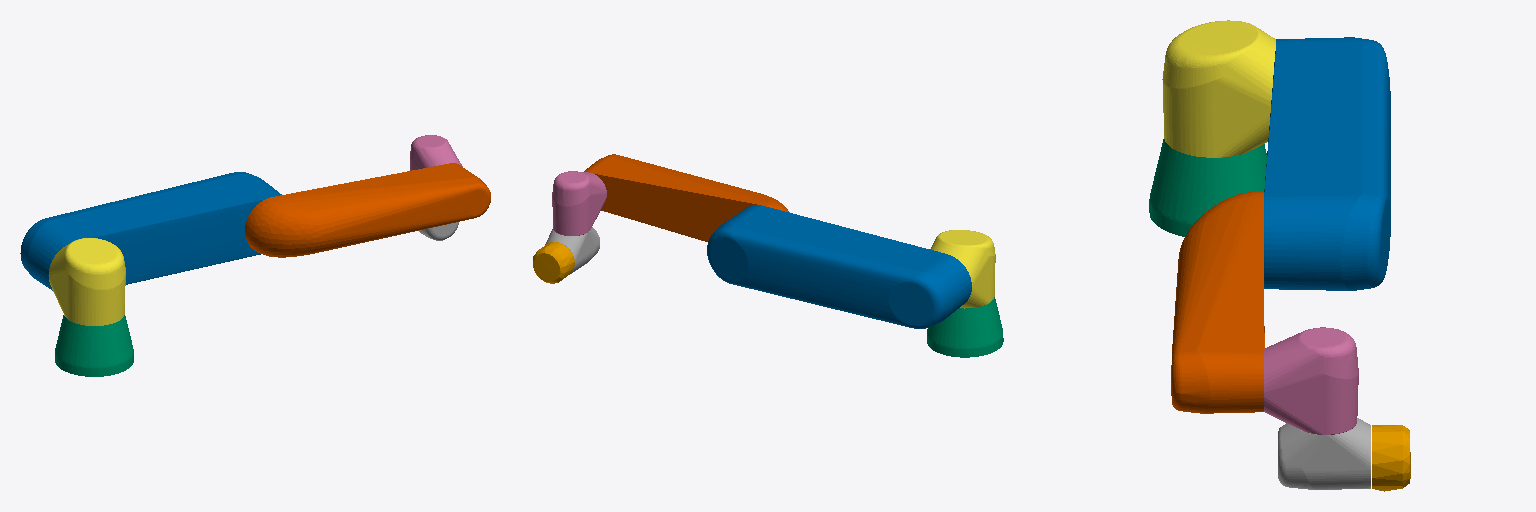
robot.urdf — ur5e:
<?xml version="1.0" ?>
<!-- =================================================================================== -->
<!-- |    This document was autogenerated by xacro from urdf/ur.urdf.xacro             | -->
<!-- |    EDITING THIS FILE BY HAND IS NOT RECOMMENDED                                 | -->
<!-- =================================================================================== -->
<robot name="ur5e">
  <!--
    Base UR robot series xacro macro.

    NOTE this is NOT a URDF. It cannot directly be loaded by consumers
    expecting a flattened '.urdf' file. See the top-level '.xacro' for that
    (but note that .xacro must still be processed by the xacro command).

    This file models the base kinematic chain of a UR robot, which then gets
    parameterised by various configuration files to convert it into a UR3(e),
    UR5(e), UR10(e) or UR16e, etc.

    NOTE the default kinematic parameters (i.e., link lengths, frame locations,
    offsets, etc) do not correspond to any particular robot. They are defaults
    only. There WILL be non-zero offsets between the Forward Kinematics results
    in TF (i.e., robot_state_publisher) and the values reported by the Teach
    Pendant.

    For accurate (and robot-specific) transforms, the 'kinematics_parameters_file'
    parameter MUST point to a .yaml file containing the appropriate values for
    the targeted robot.

    If using the UniversalRobots/Universal_Robots_ROS_Driver, follow the steps
    described in the readme of that repository to extract the kinematic
    calibration from the controller and generate the required .yaml file.

    Main author of the migration to yaml configs [author].

    Contributors to previous versions (in no particular order)

     - [author]
     - [author]
     - [author]
     - [author]
     - [author]
     - [author]
     - [author]
     - [author]
     - [author]
     - [author]
     - [author]
     - [author]
     - [author]
     - [author]
     - [author]
     - [author]
     - [author]
     - [author]
     - [author]
  -->
  <!-- create link fixed to the "world" -->
  <link name="world"/>
  <!-- links -  main serial chain -->
  <!-- base_link serves as the root of the robot's kinematic tree. It follows REP-103
        conventions (i.e., X+ forward, Y+ left, Z+ up).
        Since some kinematic solvers forbid having inertia values attached to a root link, we've
        added the base_link_inertia link that carries the visual, collision and inertia
        information.
    -->
  <link name="base_link"/>
  <link name="base_link_inertia">
    <visual>
      <origin rpy="0 0 3.141592653589793" xyz="0 0 0"/>
      <geometry>
        <mesh filename="package://ur5e_description/ur5e/visual/base.obj"/>
      </geometry>
    </visual>
    <collision>
      <origin rpy="0 0 3.141592653589793" xyz="0 0 0"/>
      <geometry>
        <mesh filename="package://ur5e_description/ur5e/collision/base.obj"/>
      </geometry>
    </collision>
    <inertial>
      <mass value="4.0"/>
      <origin rpy="0 0 0" xyz="0 0 0"/>
      <inertia ixx="0.00443333156" ixy="0.0" ixz="0.0" iyy="0.00443333156" iyz="0.0" izz="0.0072"/>
    </inertial>
  </link>
  <link name="shoulder_link">
    <visual>
      <origin rpy="0 0 3.141592653589793" xyz="0 0 0"/>
      <geometry>
        <mesh filename="package://ur5e_description/ur5e/visual/shoulder.obj"/>
      </geometry>
    </visual>
    <collision>
      <origin rpy="0 0 3.141592653589793" xyz="0 0 0"/>
      <geometry>
        <mesh filename="package://ur5e_description/ur5e/collision/shoulder.obj"/>
      </geometry>
    </collision>
    <inertial>
      <mass value="3.761"/>
      <origin rpy="1.570796326794897 0 0" xyz="0.0 -0.00193 -0.02561"/>
      <inertia ixx="0.0070021" ixy="7.3e-07" ixz="-1.053e-05" iyy="0.00648091" iyz="0.00049994" izz="0.00657286"/>
    </inertial>
  </link>
  <link name="upper_arm_link">
    <visual>
      <origin rpy="1.5707963267948966 0 -1.5707963267948966" xyz="0 0 0.138"/>
      <geometry>
        <mesh filename="package://ur5e_description/ur5e/visual/upperarm.obj"/>
      </geometry>
    </visual>
    <collision>
      <origin rpy="1.5707963267948966 0 -1.5707963267948966" xyz="0 0 0.138"/>
      <geometry>
        <mesh filename="package://ur5e_description/ur5e/collision/upperarm.obj"/>
      </geometry>
    </collision>
    <inertial>
      <mass value="8.058"/>
      <origin rpy="0 0 0" xyz="-0.2125 0.0 0.11336"/>
      <inertia ixx="0.01505885" ixy="-5.4e-05" ixz="5.63e-06" iyy="0.33388086" iyz="-1.81e-06" izz="0.33247207"/>
    </inertial>
  </link>
  <link name="forearm_link">
    <visual>
      <origin rpy="1.5707963267948966 0 -1.5707963267948966" xyz="0 0 0.007"/>
      <geometry>
        <mesh filename="package://ur5e_description/ur5e/visual/forearm.obj"/>
      </geometry>
    </visual>
    <collision>
      <origin rpy="1.5707963267948966 0 -1.5707963267948966" xyz="0 0 0.007"/>
      <geometry>
        <mesh filename="package://ur5e_description/ur5e/collision/forearm.obj"/>
      </geometry>
    </collision>
    <inertial>
      <mass value="2.846"/>
      <origin rpy="0 0 0" xyz="-0.2422 0.0 0.0265"/>
      <inertia ixx="0.00399632" ixy="-1.365e-05" ixz="0.00137272" iyy="0.07879254" iyz="-6.6e-06" izz="0.0784851"/>
    </inertial>
  </link>
  <link name="wrist_1_link">
    <visual>
      <origin rpy="1.5707963267948966 0 0" xyz="0 0 -0.127"/>
      <geometry>
        <mesh filename="package://ur5e_description/ur5e/visual/wrist1.obj"/>
      </geometry>
    </visual>
    <collision>
      <origin rpy="1.5707963267948966 0 0" xyz="0 0 -0.127"/>
      <geometry>
        <mesh filename="package://ur5e_description/ur5e/collision/wrist1.obj"/>
      </geometry>
    </collision>
    <inertial>
      <mass value="1.37"/>
      <origin rpy="1.570796326794897 0 0" xyz="0.0 -0.01634 -0.0018"/>
      <inertia ixx="0.00165491" ixy="-2.82e-06" ixz="-4.38e-06" iyy="0.00135962" iyz="0.00010157" izz="0.00126279"/>
    </inertial>
  </link>
  <link name="wrist_2_link">
    <visual>
      <origin rpy="0 0 0" xyz="0 0 -0.0997"/>
      <geometry>
        <mesh filename="package://ur5e_description/ur5e/visual/wrist2.obj"/>
      </geometry>
    </visual>
    <collision>
      <origin rpy="0 0 0" xyz="0 0 -0.0997"/>
      <geometry>
        <mesh filename="package://ur5e_description/ur5e/collision/wrist2.obj"/>
      </geometry>
    </collision>
    <inertial>
      <mass value="1.3"/>
      <origin rpy="-1.570796326794897 0 0" xyz="0.0 0.01634 -0.0018"/>
      <inertia ixx="0.00135617" ixy="-2.74e-06" ixz="4.44e-06" iyy="0.00127827" iyz="-5.048e-05" izz="0.00096614"/>
    </inertial>
  </link>
  <link name="wrist_3_link">
    <visual>
      <origin rpy="1.5707963267948966 0 0" xyz="0 0 -0.0989"/>
      <geometry>
        <mesh filename="package://ur5e_description/ur5e/visual/wrist3.obj"/>
      </geometry>
    </visual>
    <collision>
      <origin rpy="1.5707963267948966 0 0" xyz="0 0 -0.0989"/>
      <geometry>
        <mesh filename="package://ur5e_description/ur5e/collision/wrist3.obj"/>
      </geometry>
    </collision>
    <inertial>
      <mass value="0.365"/>
      <origin rpy="0 0 0" xyz="0.0 0.0 -0.001159"/>
      <inertia ixx="0.00018694" ixy="6e-08" ixz="-1.7e-07" iyy="0.00018908" iyz="-9.2e-07" izz="0.00025756"/>
    </inertial>
  </link>
  <!-- base_joint fixes base_link to the environment -->
  <joint name="base_joint" type="fixed">
    <origin rpy="0 0 0" xyz="0 0 0"/>
    <parent link="world"/>
    <child link="base_link"/>
  </joint>
  <!-- joints - main serial chain -->
  <joint name="base_link-base_link_inertia" type="fixed">
    <parent link="base_link"/>
    <child link="base_link_inertia"/>
    <!-- 'base_link' is REP-103 aligned (so X+ forward), while the internal
           frames of the robot/controller have X+ pointing backwards.
           Use the joint between 'base_link' and 'base_link_inertia' (a dummy
           link/frame) to introduce the necessary rotation over Z (of pi rad).
      -->
    <origin rpy="0 0 3.141592653589793" xyz="0 0 0"/>
  </joint>
  <joint name="shoulder_pan_joint" type="revolute">
    <parent link="base_link_inertia"/>
    <child link="shoulder_link"/>
    <origin rpy="0 0 0" xyz="0 0 0.1625"/>
    <axis xyz="0 0 1"/>
    <limit effort="150.0" lower="-6.283185307179586" upper="6.283185307179586" velocity="3.141592653589793"/>
    <dynamics damping="0" friction="0"/>
  </joint>
  <joint name="shoulder_lift_joint" type="revolute">
    <parent link="shoulder_link"/>
    <child link="upper_arm_link"/>
    <origin rpy="1.570796327 0 0" xyz="0 0 0"/>
    <axis xyz="0 0 1"/>
    <limit effort="150.0" lower="-6.283185307179586" upper="6.283185307179586" velocity="3.141592653589793"/>
    <dynamics damping="0" friction="0"/>
  </joint>
  <joint name="elbow_joint" type="revolute">
    <parent link="upper_arm_link"/>
    <child link="forearm_link"/>
    <origin rpy="0 0 0" xyz="-0.425 0 0"/>
    <axis xyz="0 0 1"/>
    <limit effort="150.0" lower="-3.141592653589793" upper="3.141592653589793" velocity="3.141592653589793"/>
    <dynamics damping="0" friction="0"/>
  </joint>
  <joint name="wrist_1_joint" type="revolute">
    <parent link="forearm_link"/>
    <child link="wrist_1_link"/>
    <origin rpy="0 0 0" xyz="-0.3922 0 0.1333"/>
    <axis xyz="0 0 1"/>
    <limit effort="28.0" lower="-6.283185307179586" upper="6.283185307179586" velocity="3.141592653589793"/>
    <dynamics damping="0" friction="0"/>
  </joint>
  <joint name="wrist_2_joint" type="revolute">
    <parent link="wrist_1_link"/>
    <child link="wrist_2_link"/>
    <origin rpy="1.570796327 0 0" xyz="0 -0.0997 -2.044881182297852e-11"/>
    <axis xyz="0 0 1"/>
    <limit effort="28.0" lower="-6.283185307179586" upper="6.283185307179586" velocity="3.141592653589793"/>
    <dynamics damping="0" friction="0"/>
  </joint>
  <joint name="wrist_3_joint" type="revolute">
    <parent link="wrist_2_link"/>
    <child link="wrist_3_link"/>
    <origin rpy="1.570796326589793 3.141592653589793 3.141592653589793" xyz="0 0.0996 -2.042830148012698e-11"/>
    <axis xyz="0 0 1"/>
    <limit effort="28.0" lower="-6.283185307179586" upper="6.283185307179586" velocity="3.141592653589793"/>
    <dynamics damping="0" friction="0"/>
  </joint>
  <link name="ft_frame"/>
  <joint name="wrist_3_link-ft_frame" type="fixed">
    <parent link="wrist_3_link"/>
    <child link="ft_frame"/>
    <origin rpy="3.141592653589793 0 0" xyz="0 0 0"/>
  </joint>
  <!-- ROS-Industrial 'base' frame - base_link to UR 'Base' Coordinates transform -->
  <link name="base"/>
  <joint name="base_link-base_fixed_joint" type="fixed">
    <!-- Note the rotation over Z of pi radians - as base_link is REP-103
           aligned (i.e., has X+ forward, Y+ left and Z+ up), this is needed
           to correctly align 'base' with the 'Base' coordinate system of
           the UR controller.
      -->
    <origin rpy="0 0 3.141592653589793" xyz="0 0 0"/>
    <parent link="base_link"/>
    <child link="base"/>
  </joint>
  <!-- ROS-Industrial 'flange' frame - attachment point for EEF models -->
  <link name="flange"/>
  <joint name="wrist_3-flange" type="fixed">
    <parent link="wrist_3_link"/>
    <child link="flange"/>
    <origin rpy="0 -1.5707963267948966 -1.5707963267948966" xyz="0 0 0"/>
  </joint>
  <!-- ROS-Industrial 'tool0' frame - all-zeros tool frame -->
  <link name="tool0"/>
  <joint name="flange-tool0" type="fixed">
    <!-- default toolframe - X+ left, Y+ up, Z+ front -->
    <origin rpy="1.5707963267948966 0 1.5707963267948966" xyz="0 0 0"/>
    <parent link="flange"/>
    <child link="tool0"/>
  </joint>
<!-- UR5e Joint Transmissions for Drake Actuation -->
<!-- Based on official Universal Robots ROS2 Description format -->
<!-- Includes both Position AND Velocity interfaces per joint -->

<transmission name="shoulder_pan_trans">
  <type>transmission_interface/SimpleTransmission</type>
  <joint name="shoulder_pan_joint">
    <hardwareInterface>hardware_interface/PositionJointInterface</hardwareInterface>
    <hardwareInterface>hardware_interface/VelocityJointInterface</hardwareInterface>
  </joint>
  <actuator name="shoulder_pan_motor">
    <mechanicalReduction>1</mechanicalReduction>
  </actuator>
</transmission>

<transmission name="shoulder_lift_trans">
  <type>transmission_interface/SimpleTransmission</type>
  <joint name="shoulder_lift_joint">
    <hardwareInterface>hardware_interface/PositionJointInterface</hardwareInterface>
    <hardwareInterface>hardware_interface/VelocityJointInterface</hardwareInterface>
  </joint>
  <actuator name="shoulder_lift_motor">
    <mechanicalReduction>1</mechanicalReduction>
  </actuator>
</transmission>

<transmission name="elbow_trans">
  <type>transmission_interface/SimpleTransmission</type>
  <joint name="elbow_joint">
    <hardwareInterface>hardware_interface/PositionJointInterface</hardwareInterface>
    <hardwareInterface>hardware_interface/VelocityJointInterface</hardwareInterface>
  </joint>
  <actuator name="elbow_motor">
    <mechanicalReduction>1</mechanicalReduction>
  </actuator>
</transmission>

<transmission name="wrist_1_trans">
  <type>transmission_interface/SimpleTransmission</type>
  <joint name="wrist_1_joint">
    <hardwareInterface>hardware_interface/PositionJointInterface</hardwareInterface>
    <hardwareInterface>hardware_interface/VelocityJointInterface</hardwareInterface>
  </joint>
  <actuator name="wrist_1_motor">
    <mechanicalReduction>1</mechanicalReduction>
  </actuator>
</transmission>

<transmission name="wrist_2_trans">
  <type>transmission_interface/SimpleTransmission</type>
  <joint name="wrist_2_joint">
    <hardwareInterface>hardware_interface/PositionJointInterface</hardwareInterface>
    <hardwareInterface>hardware_interface/VelocityJointInterface</hardwareInterface>
  </joint>
  <actuator name="wrist_2_motor">
    <mechanicalReduction>1</mechanicalReduction>
  </actuator>
</transmission>

<transmission name="wrist_3_trans">
  <type>transmission_interface/SimpleTransmission</type>
  <joint name="wrist_3_joint">
    <hardwareInterface>hardware_interface/PositionJointInterface</hardwareInterface>
    <hardwareInterface>hardware_interface/VelocityJointInterface</hardwareInterface>
  </joint>
  <actuator name="wrist_3_motor">
    <mechanicalReduction>1</mechanicalReduction>
  </actuator>
</transmission>

</robot>

--- Render facts (derived) ---
3 views of the same robot in one strip: view 1: azimuth 30°, elevation 25°; view 2: azimuth 150°, elevation 25°; view 3: azimuth 270°, elevation 25° (orthographic).
Robot: ur5e — 13 links, 12 joints (6 revolute, 6 fixed); root link world; default pose: all joints at 0.
Visible links, largest first — view 1: upper_arm_link, forearm_link, shoulder_link, base_link_inertia, wrist_1_link; view 2: upper_arm_link, forearm_link, base_link_inertia, wrist_1_link, shoulder_link, wrist_3_link, wrist_2_link; view 3: upper_arm_link, forearm_link, shoulder_link, wrist_1_link, base_link_inertia, wrist_2_link, wrist_3_link.
Boxes of the visible links, x1,y1,x2,y2 form: upper_arm_link: [20, 172, 281, 290]; forearm_link: [245, 163, 490, 257]; shoulder_link: [49, 238, 125, 325]; base_link_inertia: [55, 315, 133, 376]; wrist_1_link: [410, 135, 462, 170]; upper_arm_link: [707, 205, 971, 328]; forearm_link: [584, 154, 789, 241]; base_link_inertia: [927, 297, 1003, 357]; wrist_1_link: [552, 171, 606, 235]; shoulder_link: [930, 230, 995, 308]; wrist_3_link: [533, 242, 574, 283]; wrist_2_link: [545, 227, 599, 273]; upper_arm_link: [1264, 37, 1390, 290]; forearm_link: [1171, 191, 1264, 413]; shoulder_link: [1162, 20, 1275, 157]; wrist_1_link: [1264, 327, 1358, 434]; base_link_inertia: [1149, 139, 1266, 236]; wrist_2_link: [1278, 418, 1370, 489]; wrist_3_link: [1372, 425, 1410, 491].
Bounding box of the posed robot: 0.932 × 0.3085 × 0.234 m (x, y, z).
Meshes: 7 distinct files referenced, 7 mesh visuals loaded (7 OBJ).